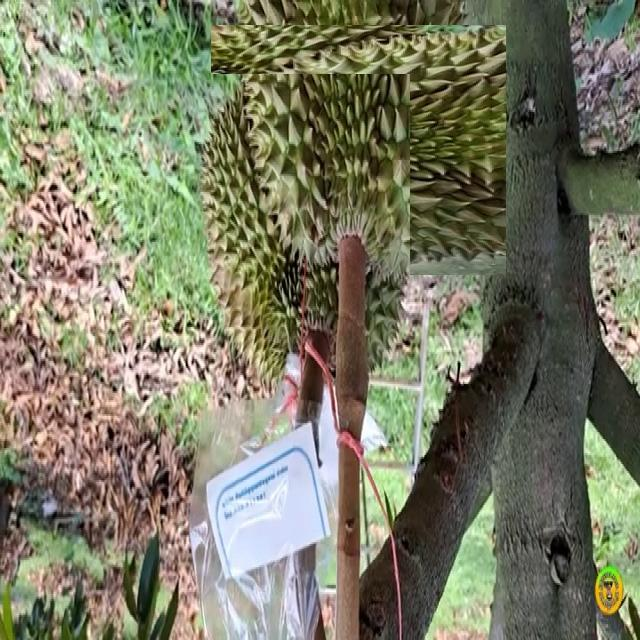durian: (222, 13, 496, 286), (196, 74, 410, 388)
